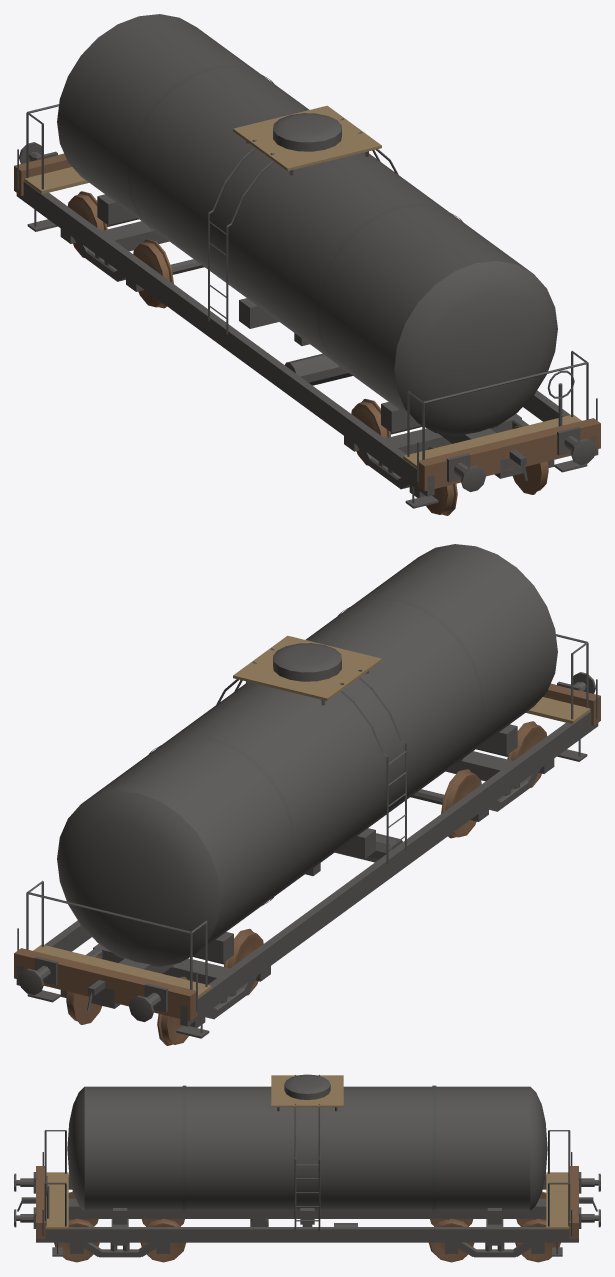
Rendered from Scenery_RailTankWagon.fbx.
The picture shows the model from 3 angles, top to bottom: view 1: azimuth 30°, elevation 25°; view 2: azimuth 150°, elevation 25°; view 3: azimuth 270°, elevation 25°; orthographic projection. The views are drawn at different scales.
Parts seen in each view (by area): view 1: Scenery_RailTankWagon_Mesh; view 2: Scenery_RailTankWagon_Mesh; view 3: Scenery_RailTankWagon_Mesh.
Boxes of the visible parts, bbox=[...] form: Scenery_RailTankWagon_Mesh: bbox=[14, 14, 600, 515]; Scenery_RailTankWagon_Mesh: bbox=[14, 544, 600, 1045]; Scenery_RailTankWagon_Mesh: bbox=[14, 1074, 600, 1262].
Bounding box in the file's own units: 2.87 × 3.81 × 12.22.
